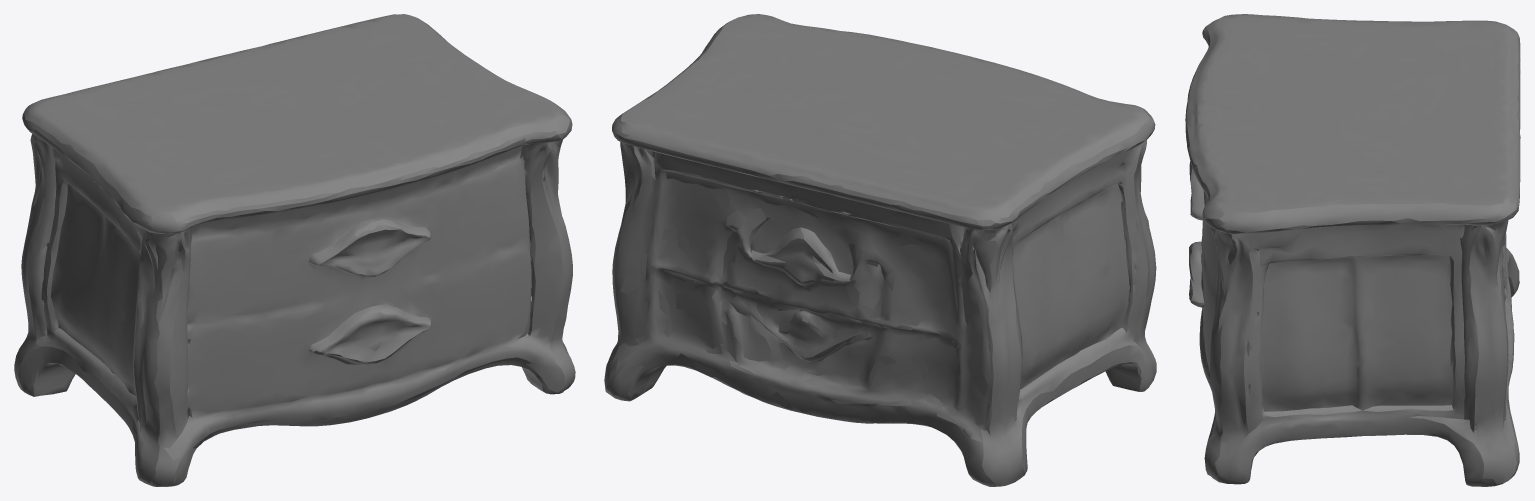
Rendered from completion_cabinet_0.glb.
3 renders of one model, left to right at view 1: azimuth 30°, elevation 25°; view 2: azimuth 150°, elevation 25°; view 3: azimuth 270°, elevation 25°, orthographic.
Visible parts, largest first — view 1: geometry_0; view 2: geometry_0; view 3: geometry_0.
Boxes of the visible parts, bbox=[...] form: geometry_0: bbox=[14, 14, 575, 486]; geometry_0: bbox=[604, 14, 1156, 486]; geometry_0: bbox=[1185, 14, 1520, 486].
Bounding box in the file's own units: 1 × 0.6269 × 0.6835.
Materials: 1 (1 with a texture image).
